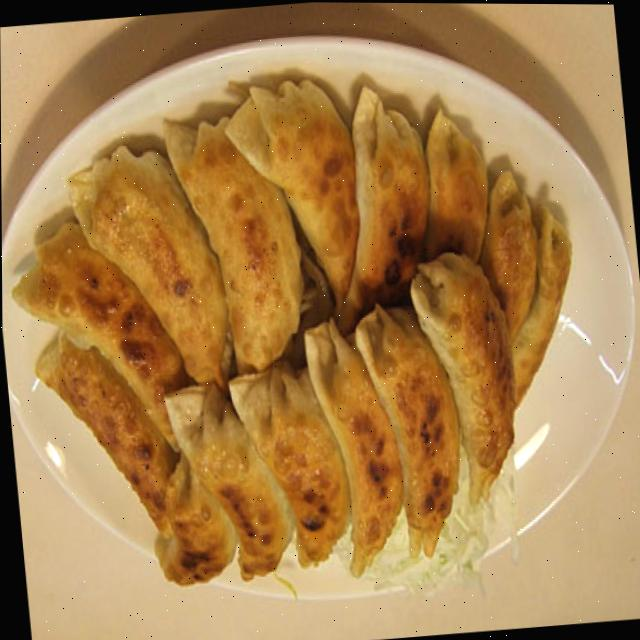带馅早点: (0, 45, 615, 611)
